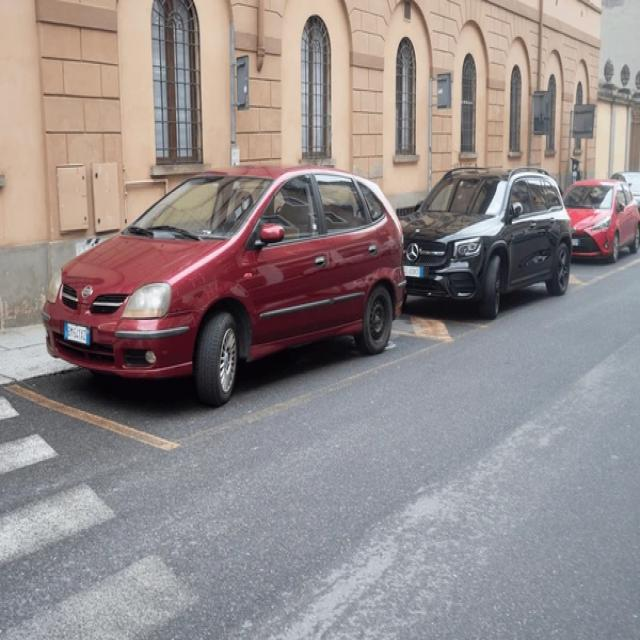nissan: (79, 280, 94, 300)
